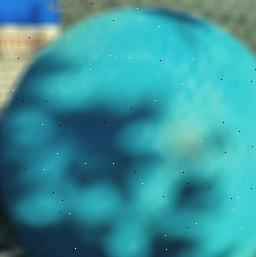algae: (2, 4, 256, 257)
